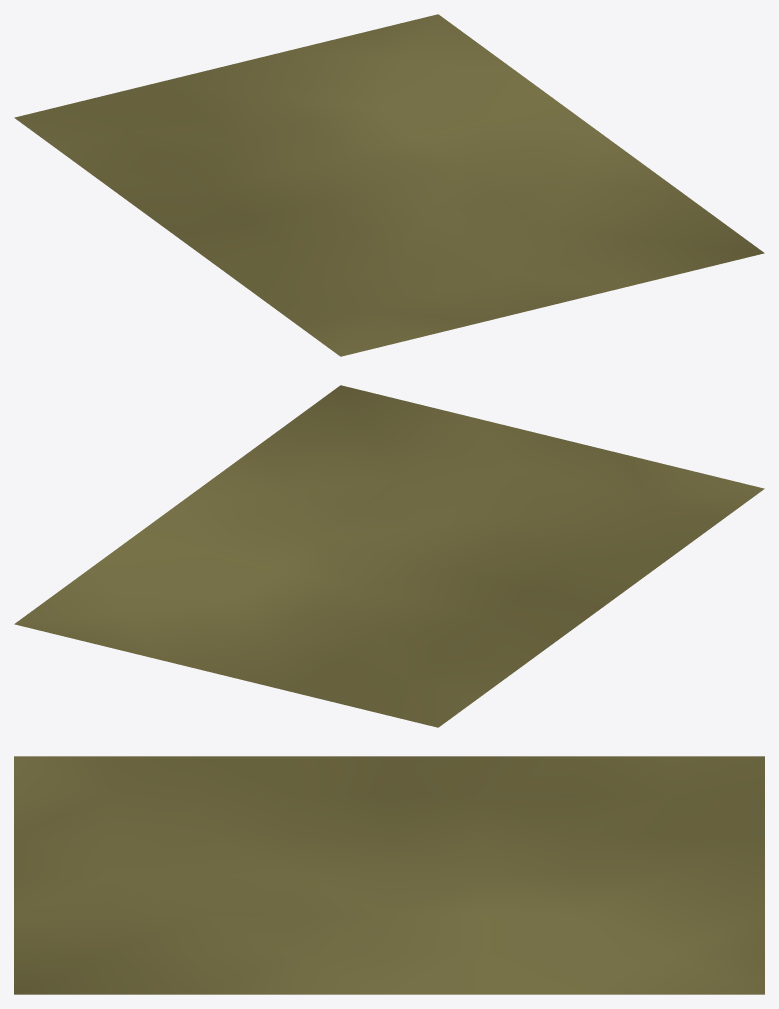
File: terrain_lod2_-4_-3.obj
The picture shows the model from 3 angles, top to bottom: view 1: azimuth 30°, elevation 25°; view 2: azimuth 150°, elevation 25°; view 3: azimuth 270°, elevation 25°; orthographic projection. The views are drawn at different scales.
Parts seen in each view (by area): view 1: terrain_lod2_-4_-3; view 2: terrain_lod2_-4_-3; view 3: terrain_lod2_-4_-3.
Part boxes in pixels (x1,y1,x2,y2): terrain_lod2_-4_-3: (14,14,764,356); terrain_lod2_-4_-3: (14,385,764,727); terrain_lod2_-4_-3: (14,756,764,994).
Size of the model in its own units: 48 by 0 by 64.
